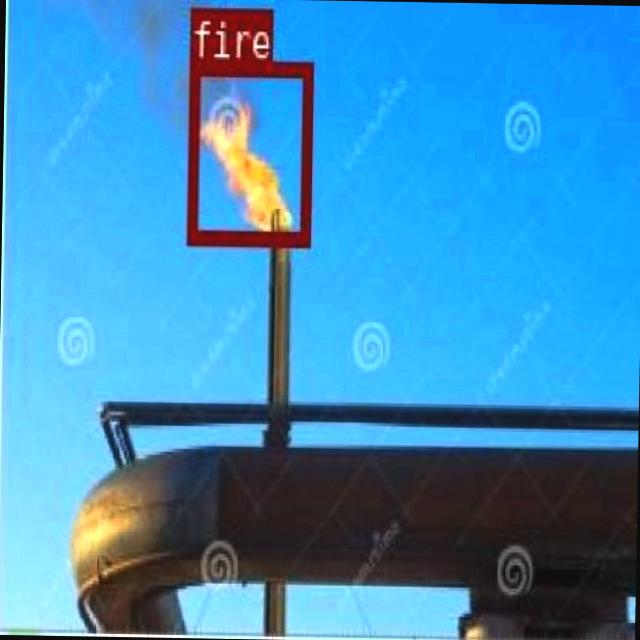fire: (185, 56, 310, 244)
